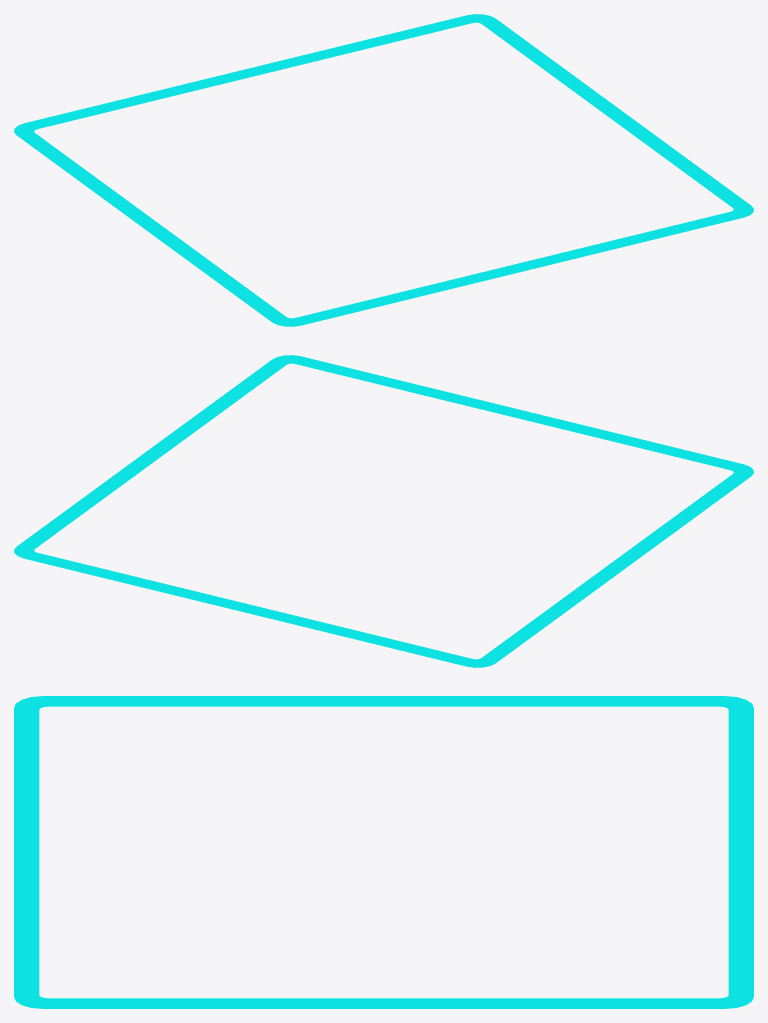
File: borderObject-movement.glb
3 renders of one model, top to bottom at view 1: azimuth 30°, elevation 25°; view 2: azimuth 150°, elevation 25°; view 3: azimuth 270°, elevation 25°, orthographic. The views are drawn at different scales.
Visible parts, largest first — view 1: Cube.007; view 2: Cube.007; view 3: Cube.007.
Part boxes in pixels (x1=…): Cube.007: x1=14, y1=14, x2=753, y2=326; Cube.007: x1=14, y1=355, x2=753, y2=667; Cube.007: x1=14, y1=696, x2=753, y2=1008.
Size of the model in its own units: 0.8313 by 0 by 0.8313.
